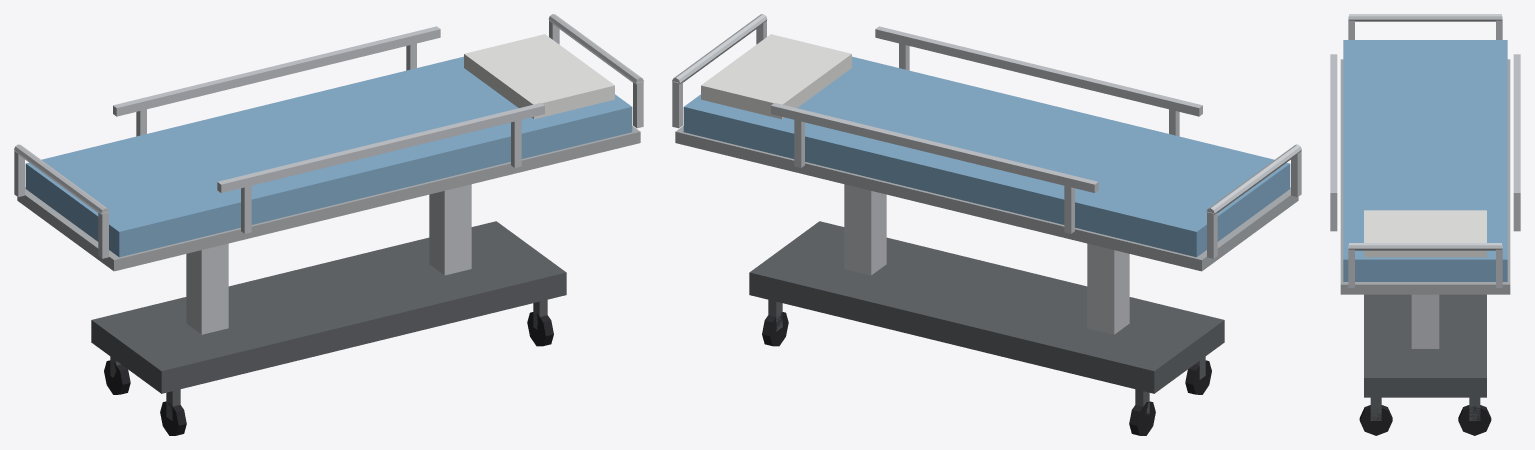
Rendered from Gurney.fbx.
3 renders of one model, left to right at view 1: azimuth 30°, elevation 25°; view 2: azimuth 150°, elevation 25°; view 3: azimuth 270°, elevation 25°, orthographic. The views are drawn at different scales.
Parts seen in each view (by area): view 1: Gurney; view 2: Gurney; view 3: Gurney.
Boxes of the visible parts, x1,y1,x2,y2 form: Gurney: [14, 14, 643, 435]; Gurney: [672, 14, 1301, 435]; Gurney: [1330, 14, 1520, 435].
Size of the model in its own units: 2.01 by 0.935 by 0.695.
